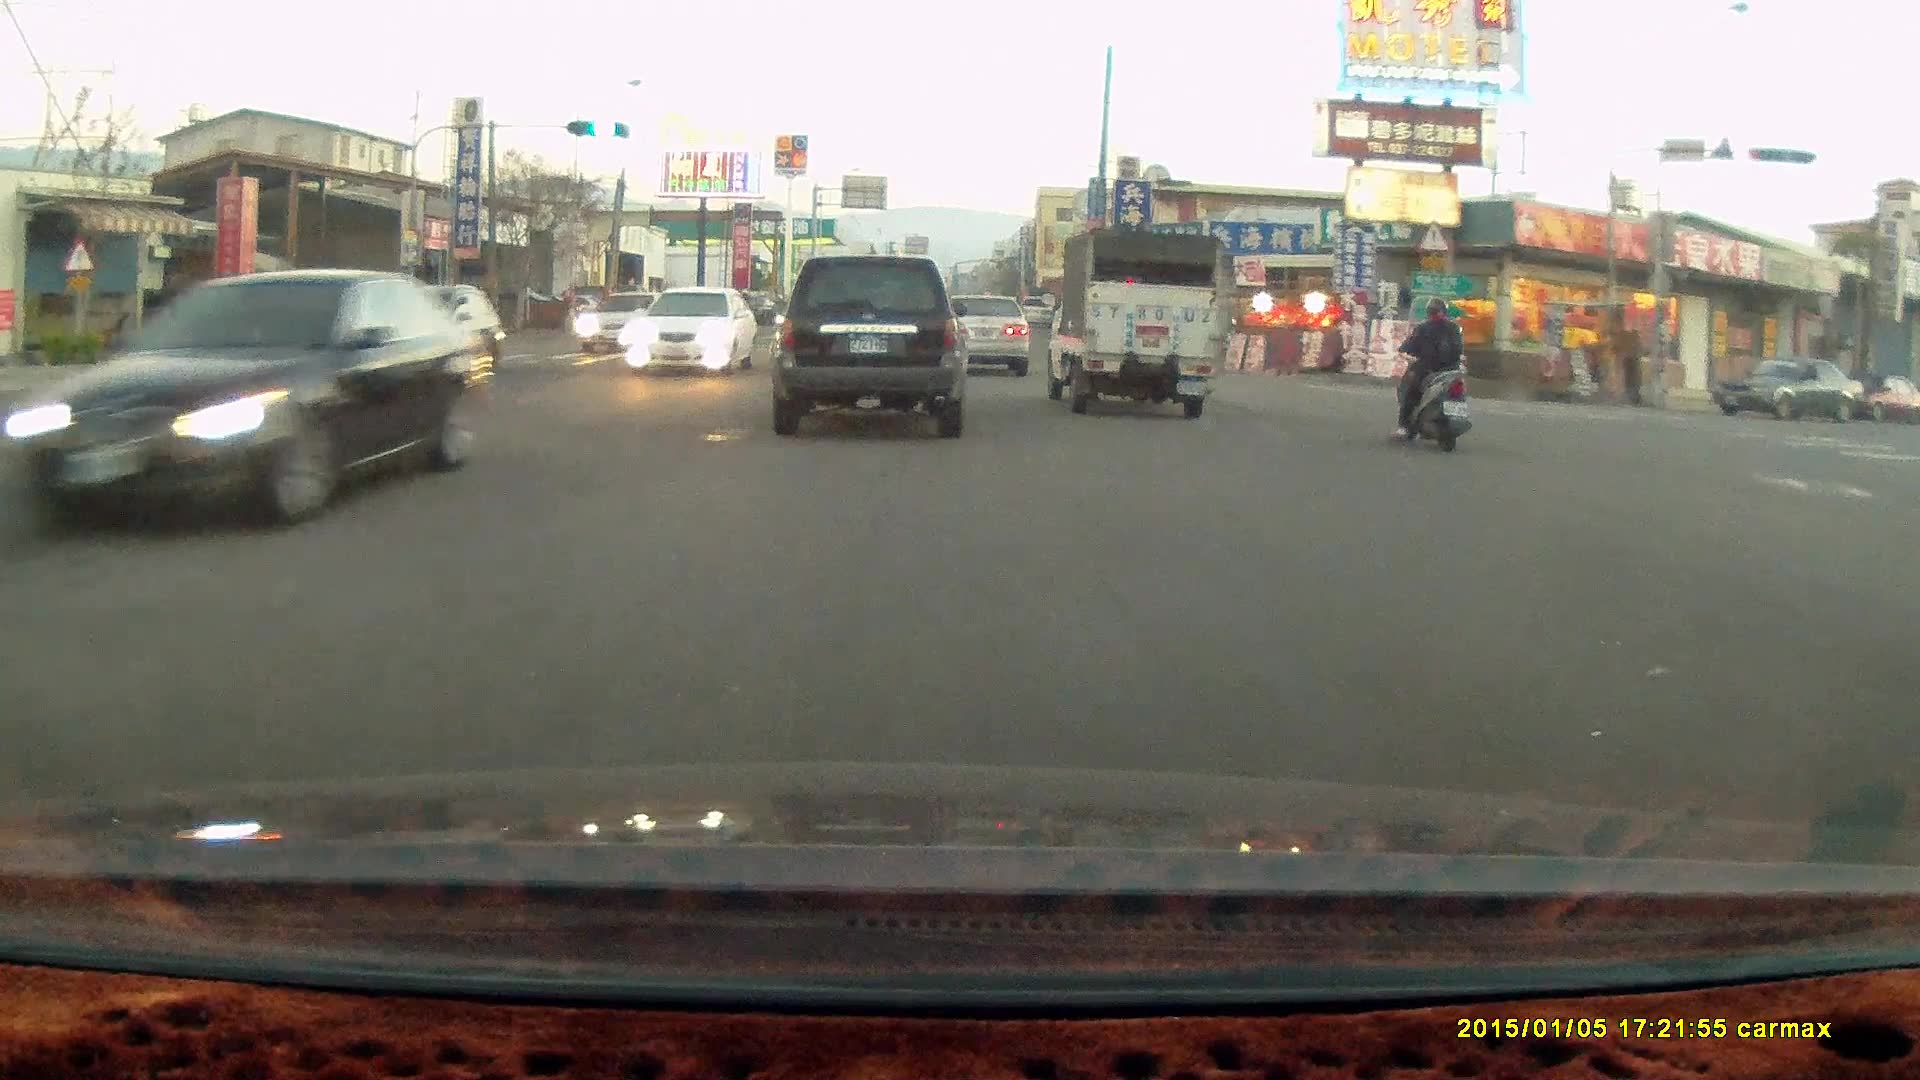rider: (1388, 291, 1474, 451)
vehicle: (4, 271, 481, 546), (766, 254, 969, 439), (1039, 227, 1220, 418), (338, 286, 505, 377), (629, 288, 759, 378), (1711, 356, 1867, 425), (928, 289, 1030, 376), (941, 293, 1033, 380), (576, 290, 679, 362), (275, 284, 400, 336), (1844, 375, 1920, 426)
